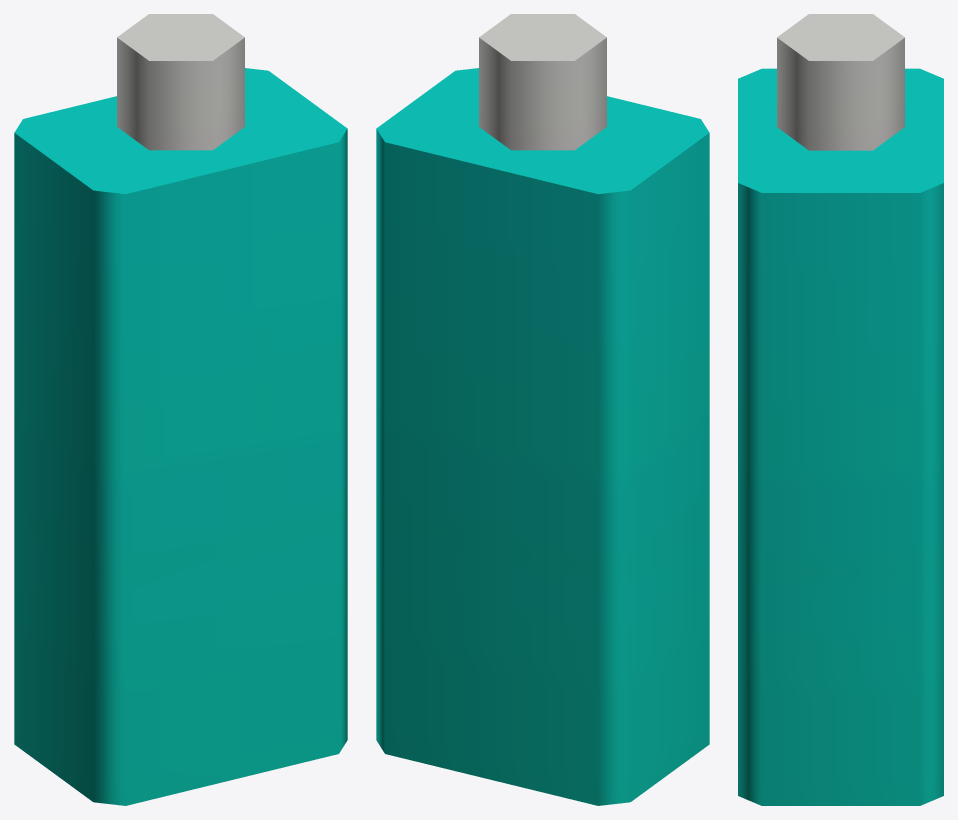
File: Pfb_JLAB_Bottle__5.fbx
3 renders of one model, left to right at view 1: azimuth 30°, elevation 25°; view 2: azimuth 150°, elevation 25°; view 3: azimuth 270°, elevation 25°, orthographic.
Visible parts, largest first — view 1: Color; view 2: Color; view 3: Color.
Boxes of the visible parts, x1,y1,x2,y2 form: Color: (14,14,347,805); Color: (376,14,709,805); Color: (738,14,943,805).
Size of the model in its own units: 0.1 by 0.265 by 0.07.
1 material, 1 textured.
